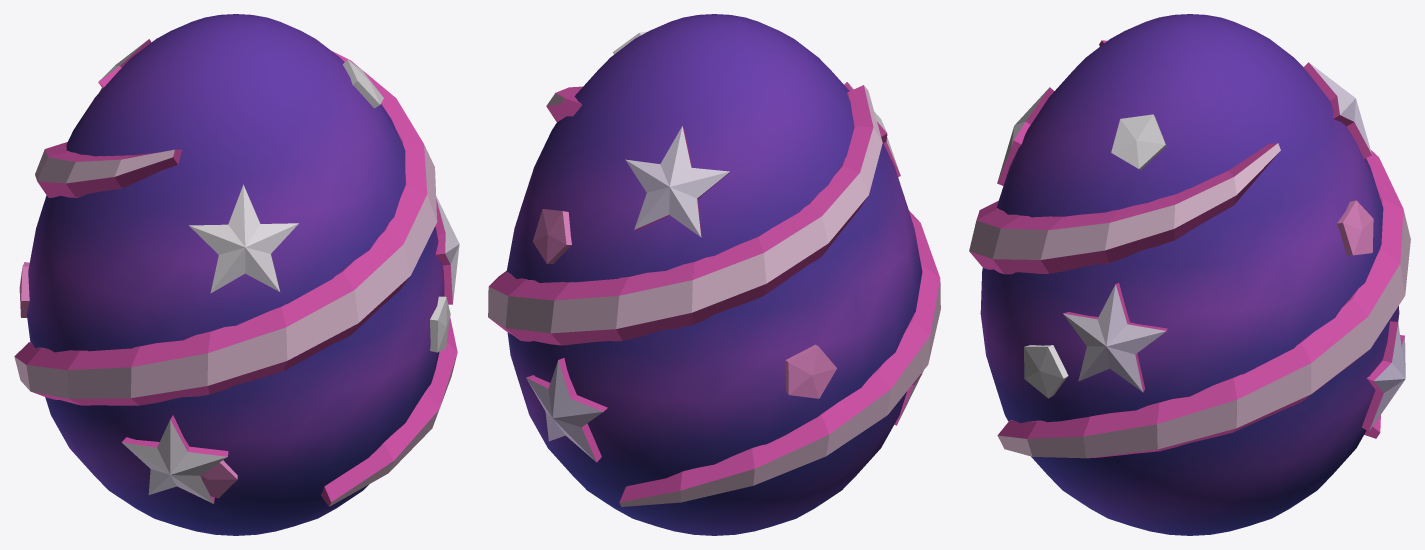
Rendered from mystery_egg_cosmic.fbx.
3 renders of one model, left to right at view 1: azimuth 30°, elevation 25°; view 2: azimuth 150°, elevation 25°; view 3: azimuth 270°, elevation 25°, orthographic.
Parts seen in each view (by area): view 1: mystery_egg_cosmic; view 2: mystery_egg_cosmic; view 3: mystery_egg_cosmic.
Boxes of the visible parts, box(x1,y1,x2,y2) form: mystery_egg_cosmic: box(14, 14, 459, 535); mystery_egg_cosmic: box(488, 14, 940, 535); mystery_egg_cosmic: box(969, 14, 1410, 535).
Bounding box in the file's own units: 1.81 × 2.2 × 1.79.
